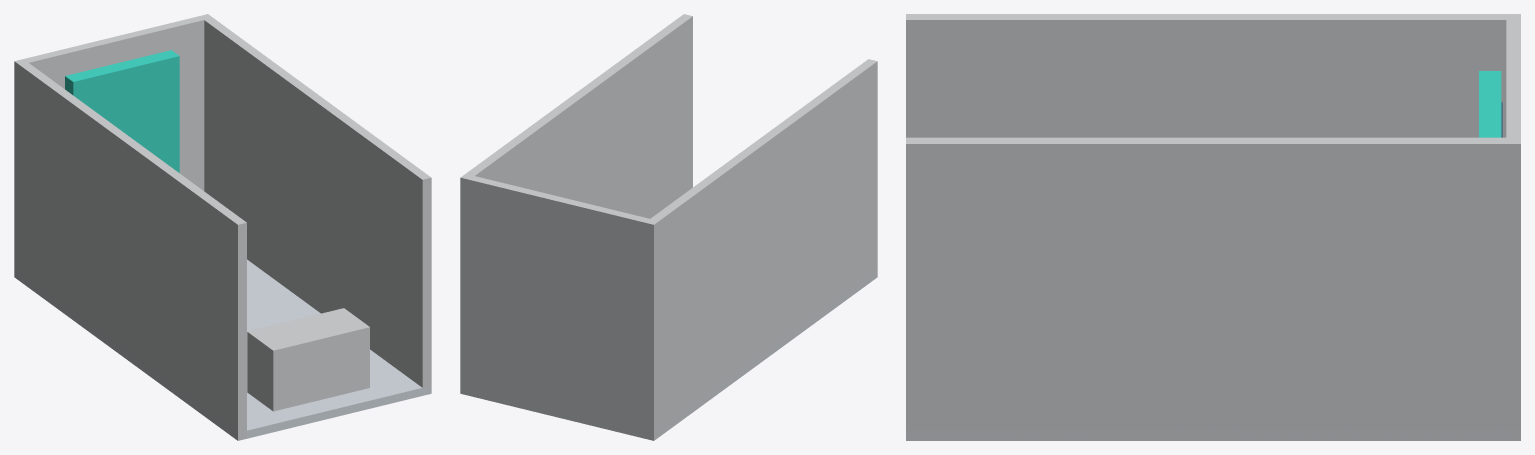
The picture shows the model from 3 angles, left to right: view 1: azimuth 30°, elevation 25°; view 2: azimuth 150°, elevation 25°; view 3: azimuth 270°, elevation 25°; orthographic projection. The views are drawn at different scales.
Parts seen in each view (by area): view 1: Exhibition Booth Concept; view 2: Exhibition Booth Concept; view 3: Exhibition Booth Concept.
Boxes of the visible parts, x1,y1,x2,y2 form: Exhibition Booth Concept: [14, 14, 431, 440]; Exhibition Booth Concept: [460, 14, 877, 440]; Exhibition Booth Concept: [906, 14, 1520, 440].
Size of the model in its own units: 3 by 3.2 by 6.
